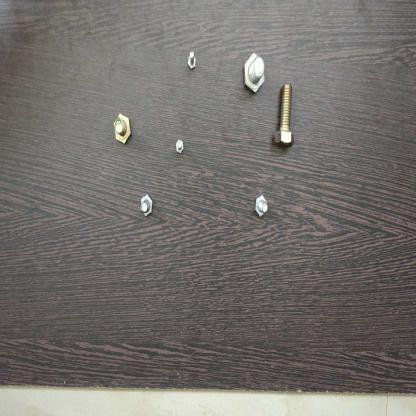Bolts: (274, 83, 296, 150), (240, 50, 268, 100), (108, 106, 134, 147), (139, 190, 156, 219), (252, 192, 270, 219), (184, 48, 199, 68)
